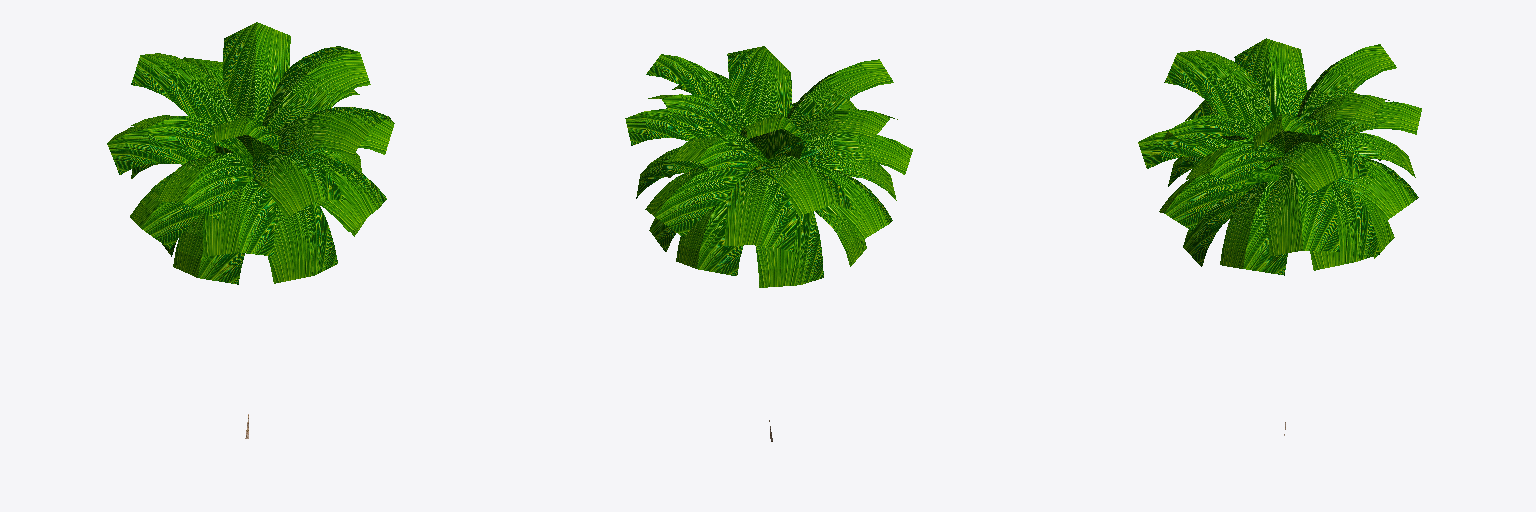
3 views of the same model, side by side, from view 1: azimuth 30°, elevation 25°; view 2: azimuth 150°, elevation 25°; view 3: azimuth 270°, elevation 25° (orthographic).
Parts seen in each view (by area): view 1: palm_folhas; view 2: palm_folhas; view 3: palm_folhas.
Part boxes in pixels (bbox=[...]): palm_folhas: bbox=[107, 22, 394, 438]; palm_folhas: bbox=[625, 46, 912, 441]; palm_folhas: bbox=[1138, 38, 1421, 435].
Size of the model in its own units: 7.07 by 10.35 by 7.3.
Materials: 2 (2 with a texture image).